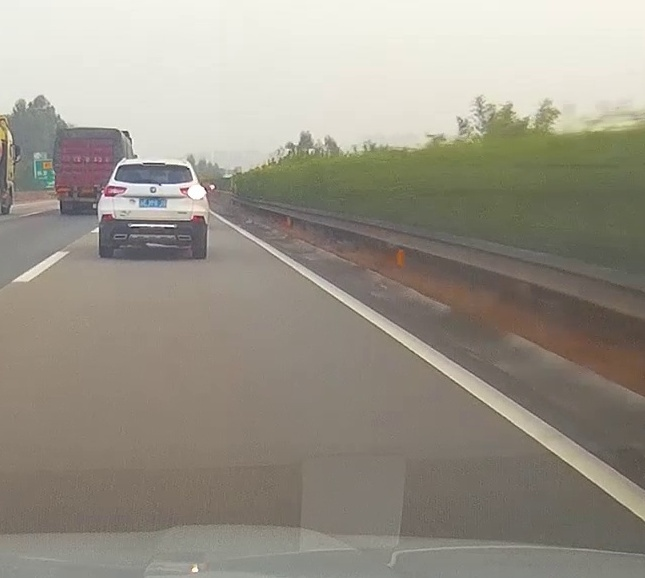L_light: (104, 185, 128, 198)
R_light: (181, 186, 207, 200)
T_light: (143, 161, 166, 165)
day-right: (99, 158, 209, 259)
